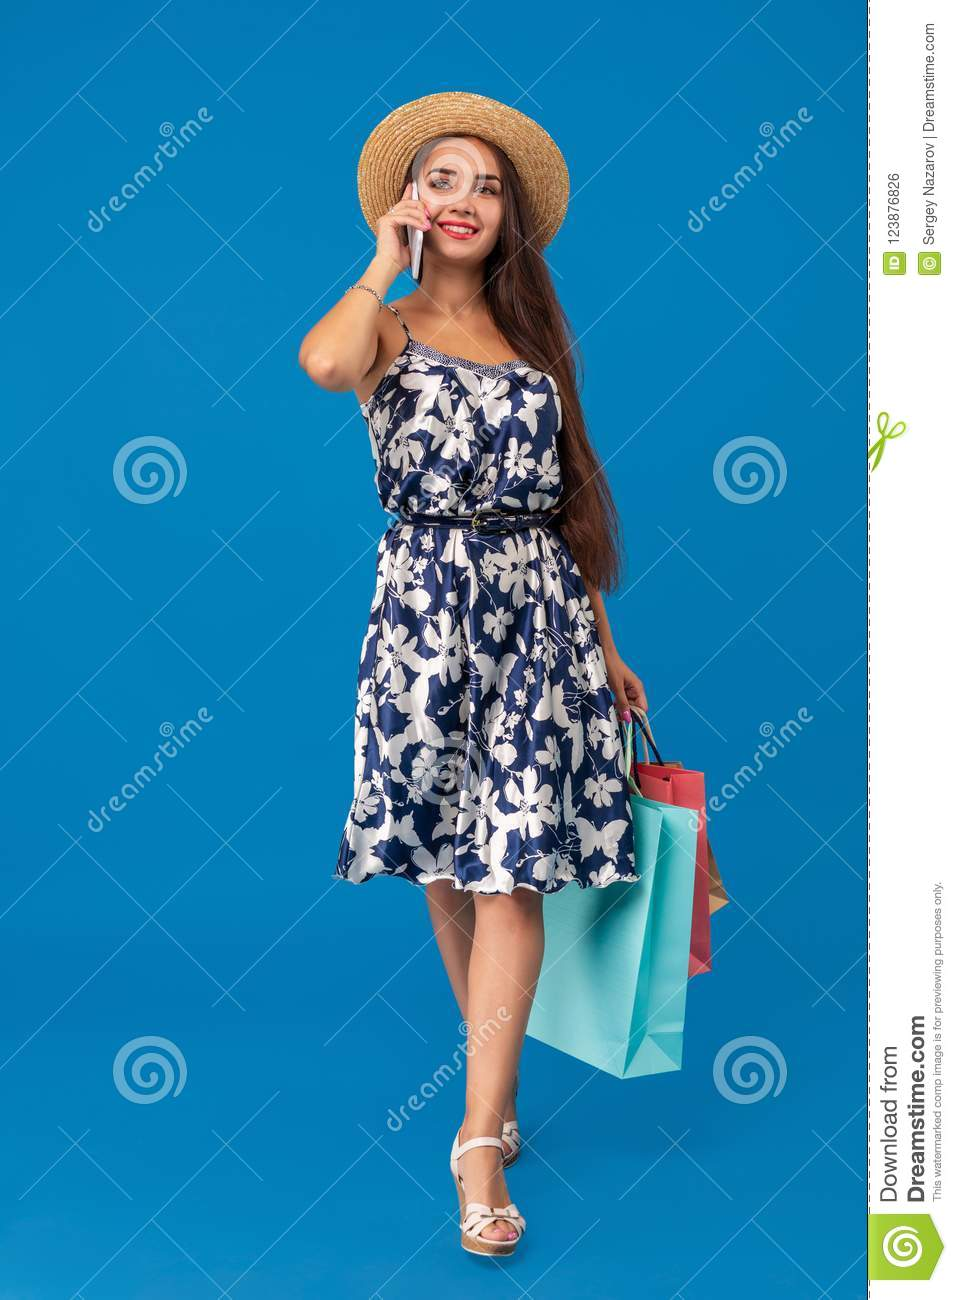phone: (406, 181, 425, 280)
talk: (374, 167, 503, 279)
